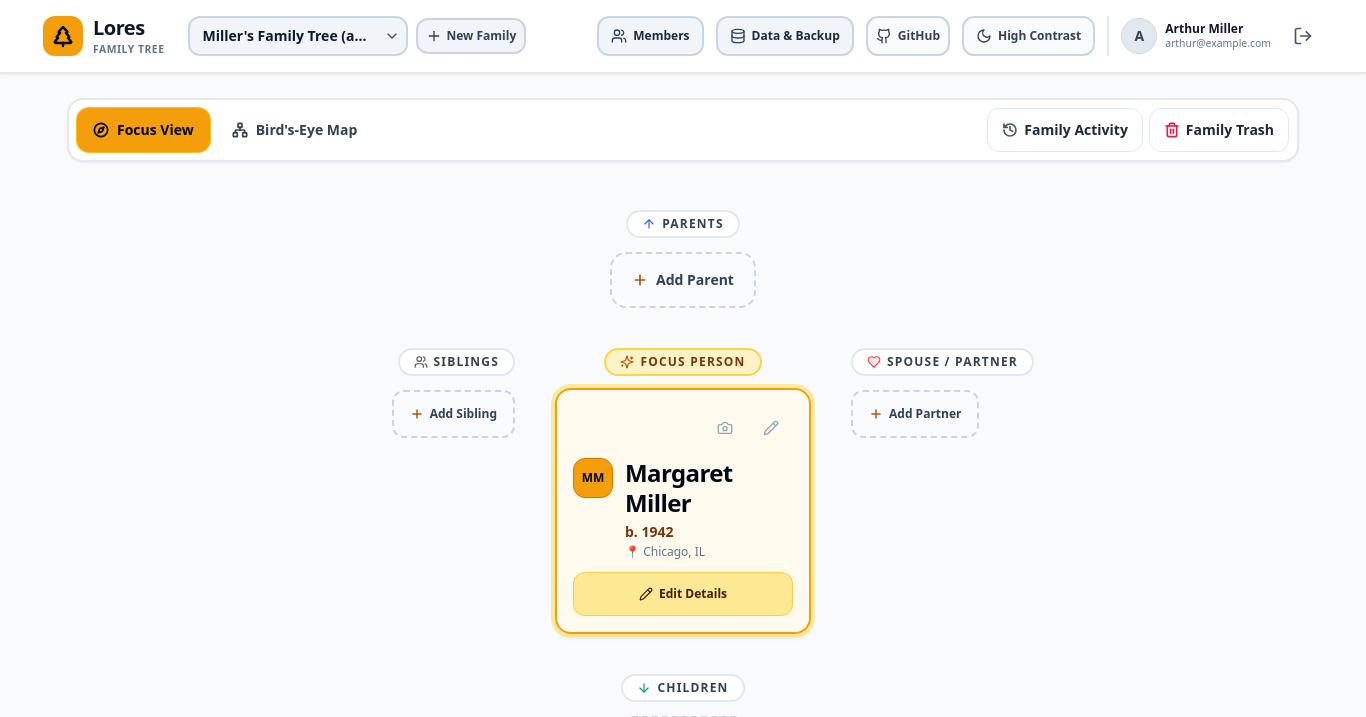
Test case: App navigation and modals › opens CreateWorkspaceModal when New Family button is clicked in header
The image size is (1366, 717).
Step 1. Click the button with aria-label "Create New Family Tree" → (471, 36), box x1=416 y1=18 x2=526 y2=54
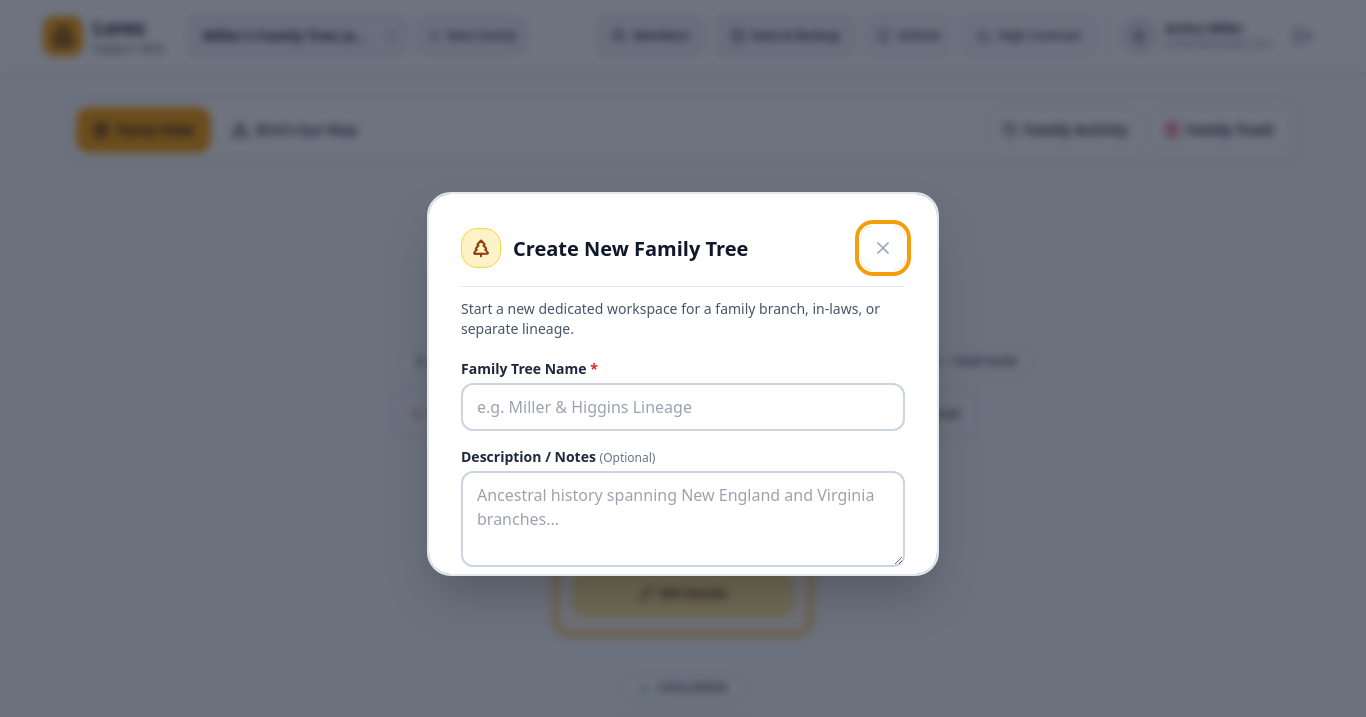
Check: the heading "Create New Family Tree" is shown, box x1=513 y1=236 x2=748 y2=260
